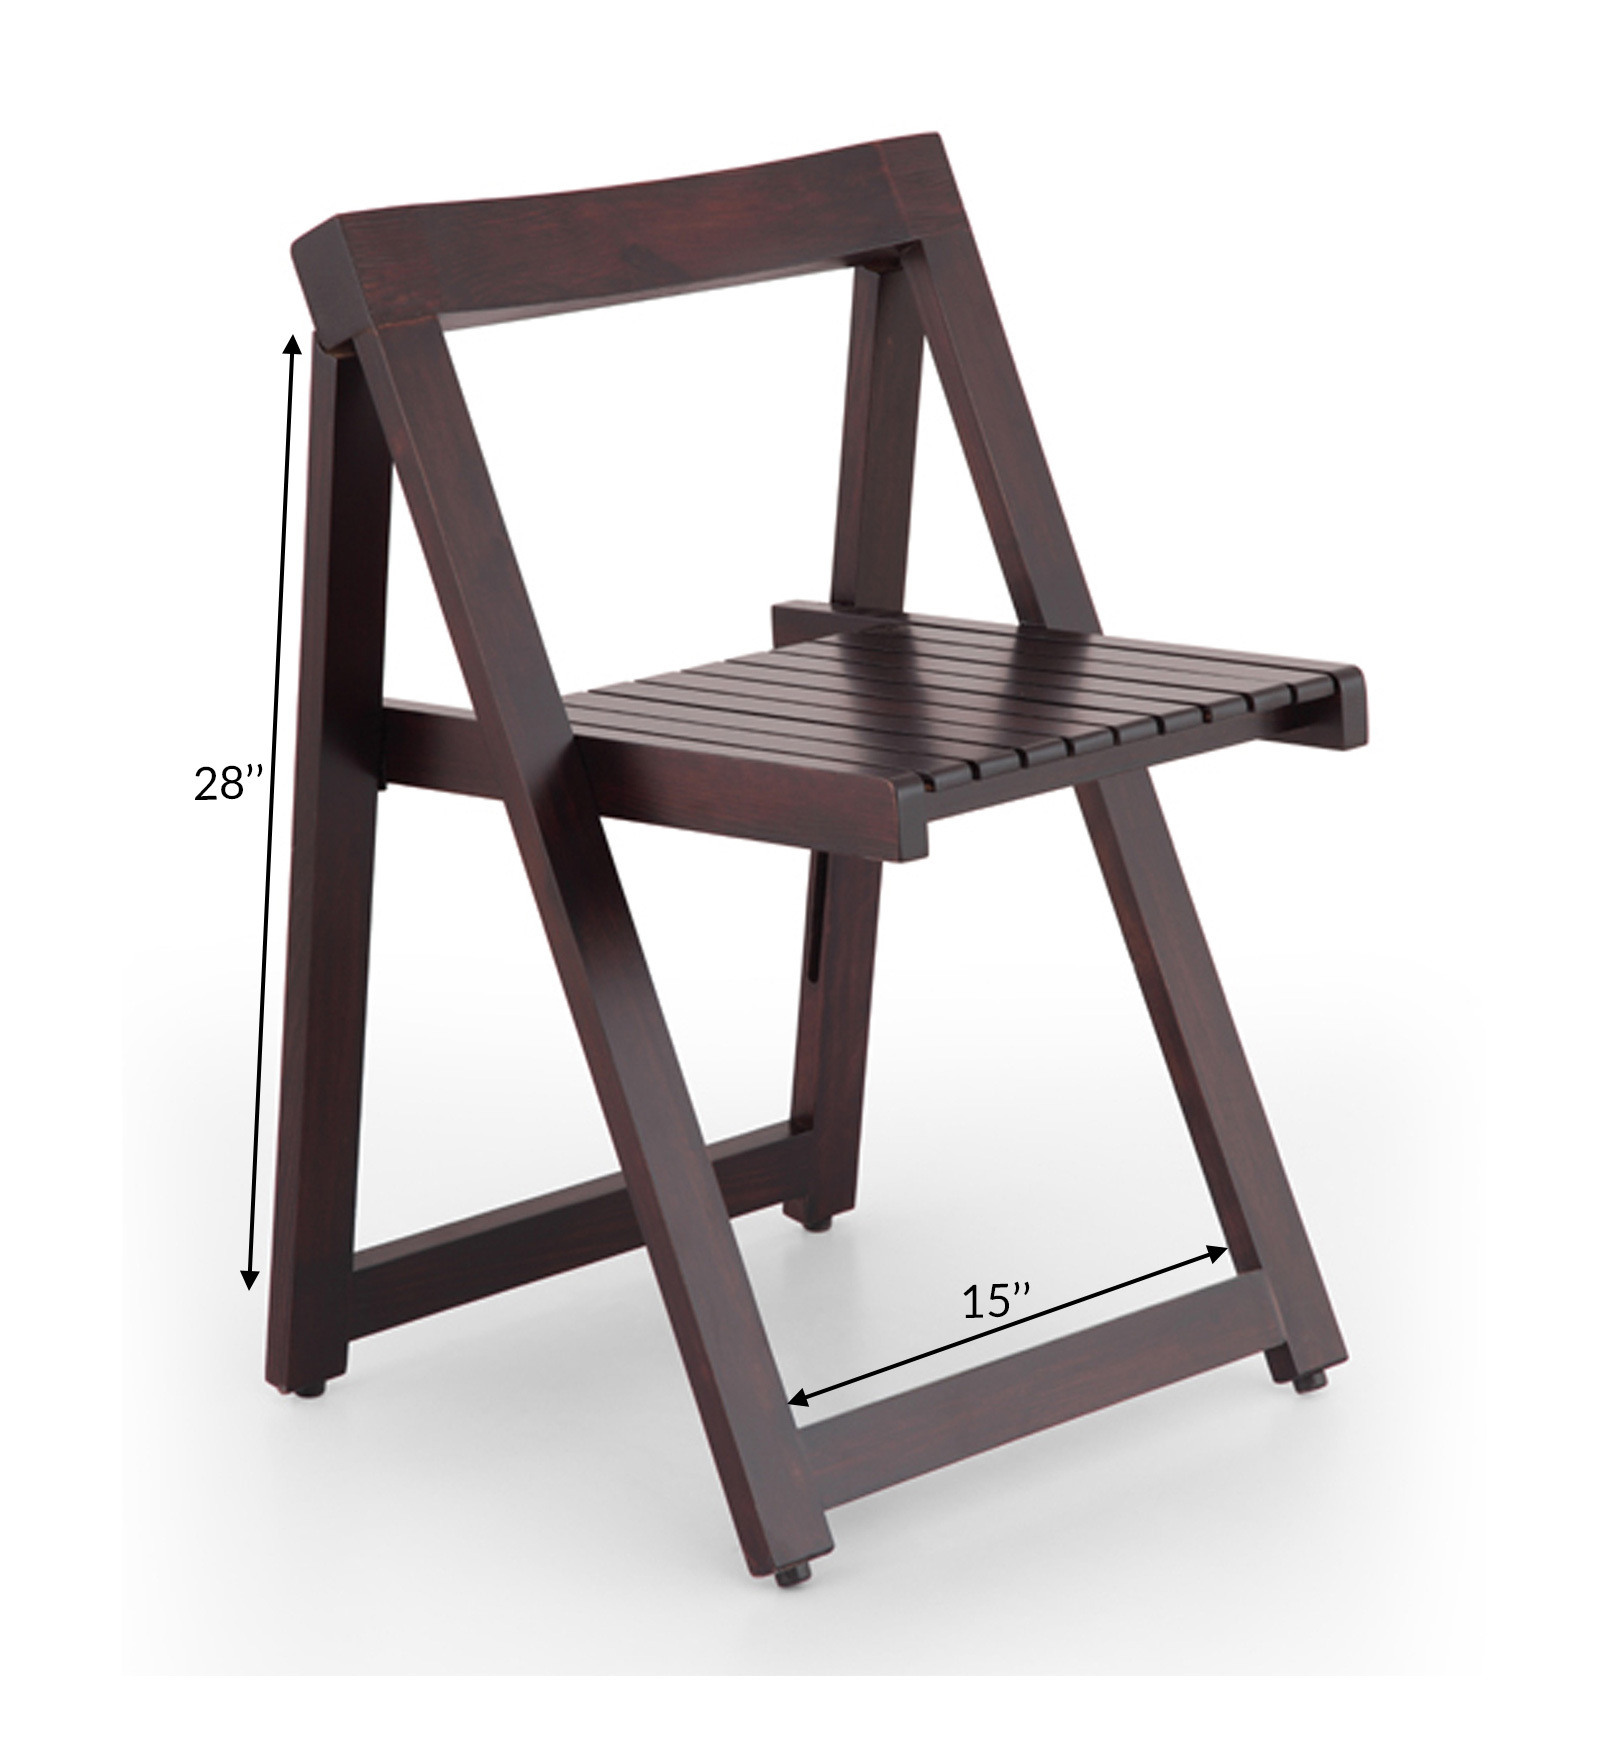Foldable Dining Chair in Ebony Finish by Ekbote Furniture: (208, 104, 1396, 1628)
